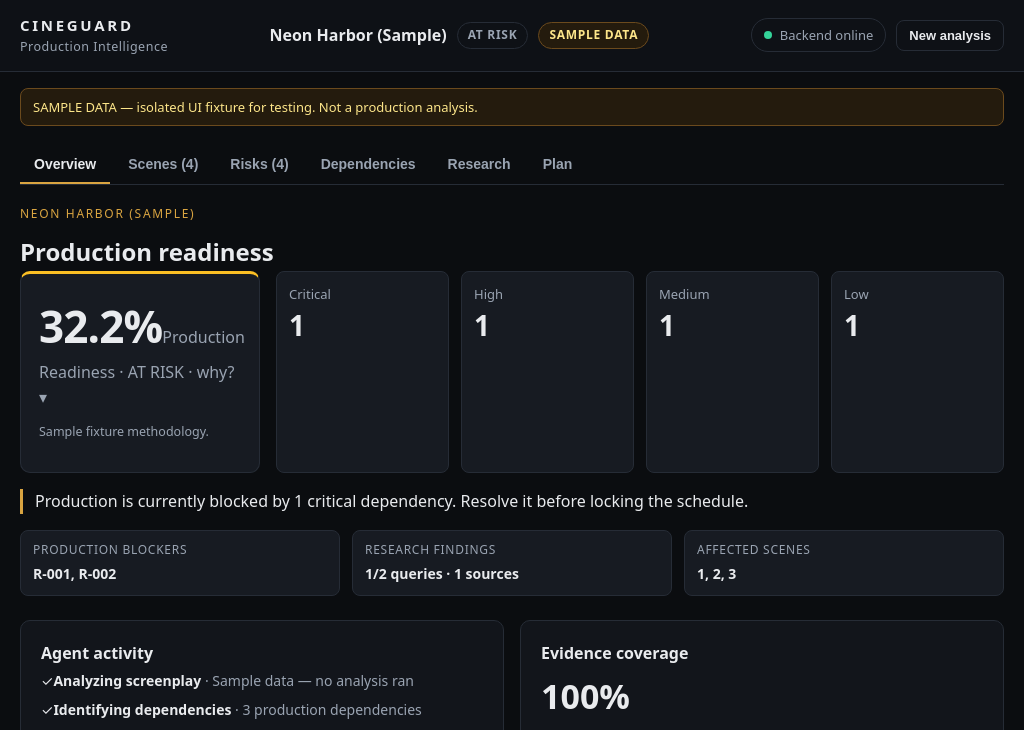
Test: Command Center › links research evidence to impacted risks
Click the tab "Research": (479, 165) [434,146,525,184]
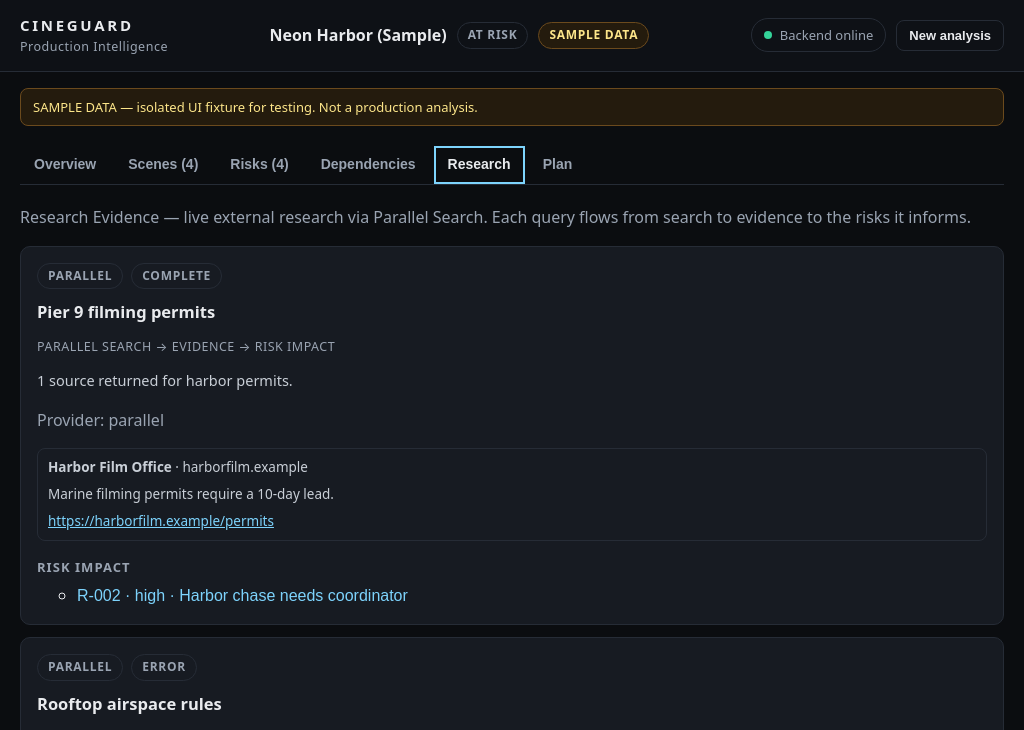
Now the number of headings "Risk impact" is 2
Now the button "R-002 · high · Harbor chase needs coordinator" is shown, box [77,587,408,605]
